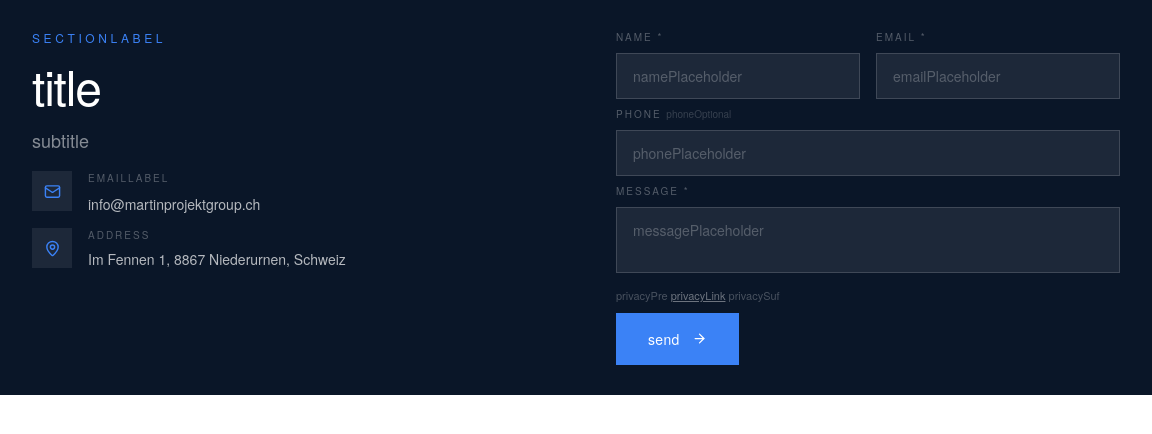
Test case: ContactSection › clears error when valid value is entered after blur
Type "A" into the field with placeholder "namePlaceholder" at (738, 76), box [616, 53, 860, 99]
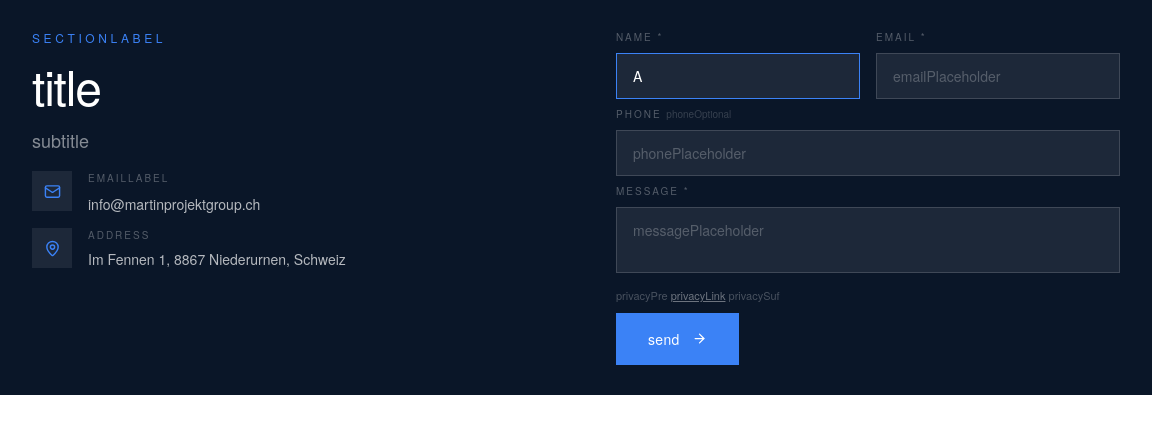
Leave the field with placeholder "namePlaceholder", box [616, 53, 860, 99]
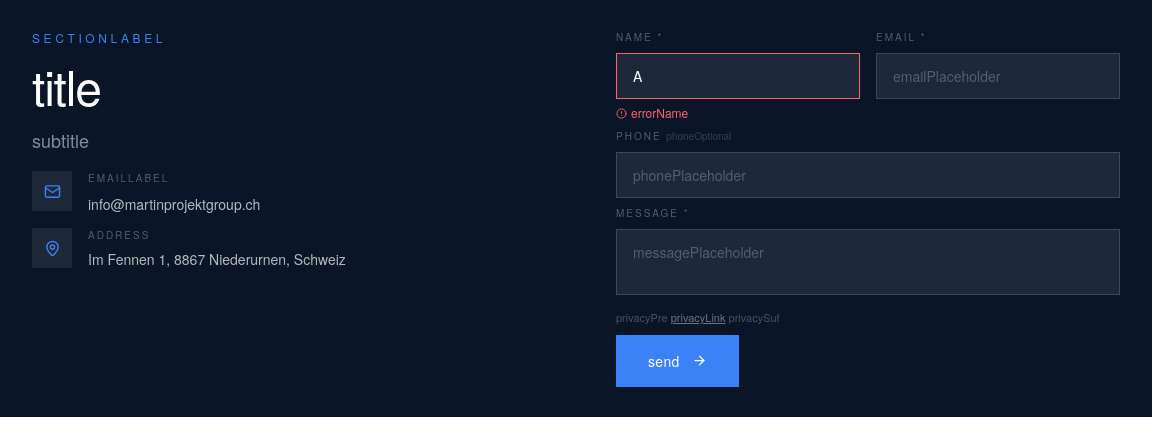
expect the text "errorName" is shown: met, box [616, 104, 688, 121]
Replace the text in the field with placeholder "namePlaceholder" with "John Doe" at (738, 76), box [616, 53, 860, 99]
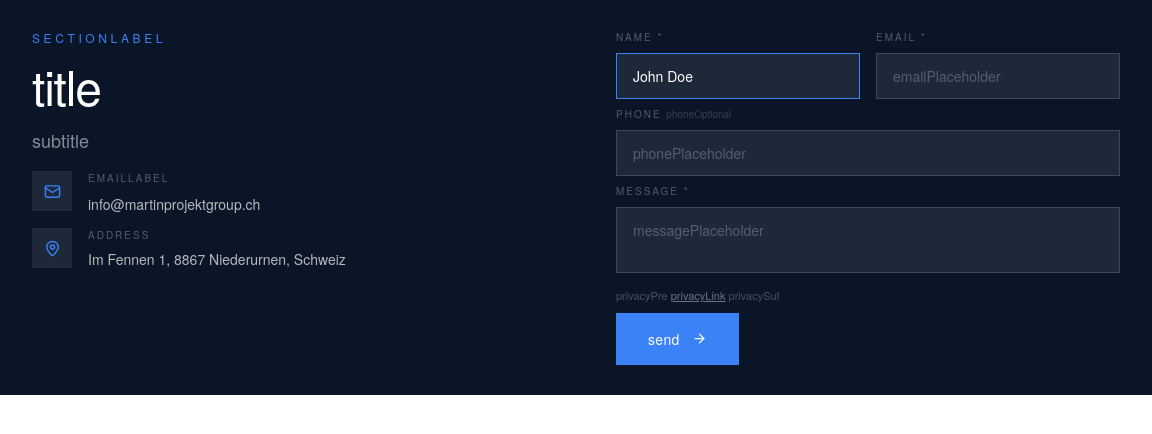
expect the text "errorName" is gone: met
